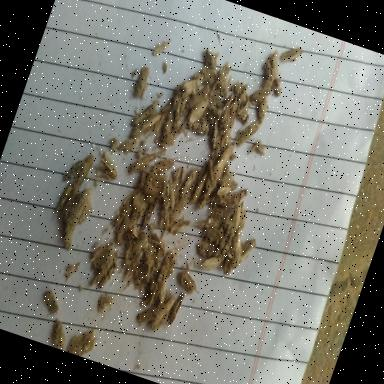pbw: (128, 106, 162, 142), (93, 148, 125, 184), (174, 264, 208, 296), (210, 140, 236, 181), (225, 229, 250, 270), (184, 81, 212, 117), (96, 256, 122, 294), (234, 114, 262, 149), (148, 269, 174, 306), (178, 70, 206, 104), (128, 146, 156, 180), (222, 197, 248, 233), (184, 95, 209, 130), (152, 292, 176, 328), (165, 290, 186, 330), (139, 192, 159, 232), (178, 165, 199, 202), (247, 82, 275, 108), (228, 80, 254, 107), (168, 98, 188, 132), (278, 41, 304, 67), (150, 152, 175, 178), (41, 286, 64, 314), (162, 176, 182, 208), (134, 303, 158, 329), (191, 170, 209, 202), (168, 214, 192, 238), (184, 117, 210, 139), (206, 118, 225, 148), (200, 226, 224, 249), (200, 250, 224, 273), (215, 100, 232, 132), (266, 51, 284, 80), (230, 184, 250, 207), (233, 104, 252, 124), (196, 240, 216, 256)
